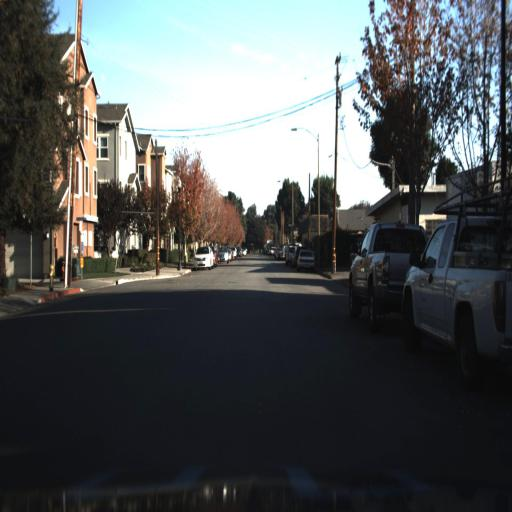car: (401, 175, 512, 400), (345, 213, 437, 340), (343, 218, 429, 321), (189, 241, 214, 272), (190, 243, 216, 271), (295, 247, 315, 272)
